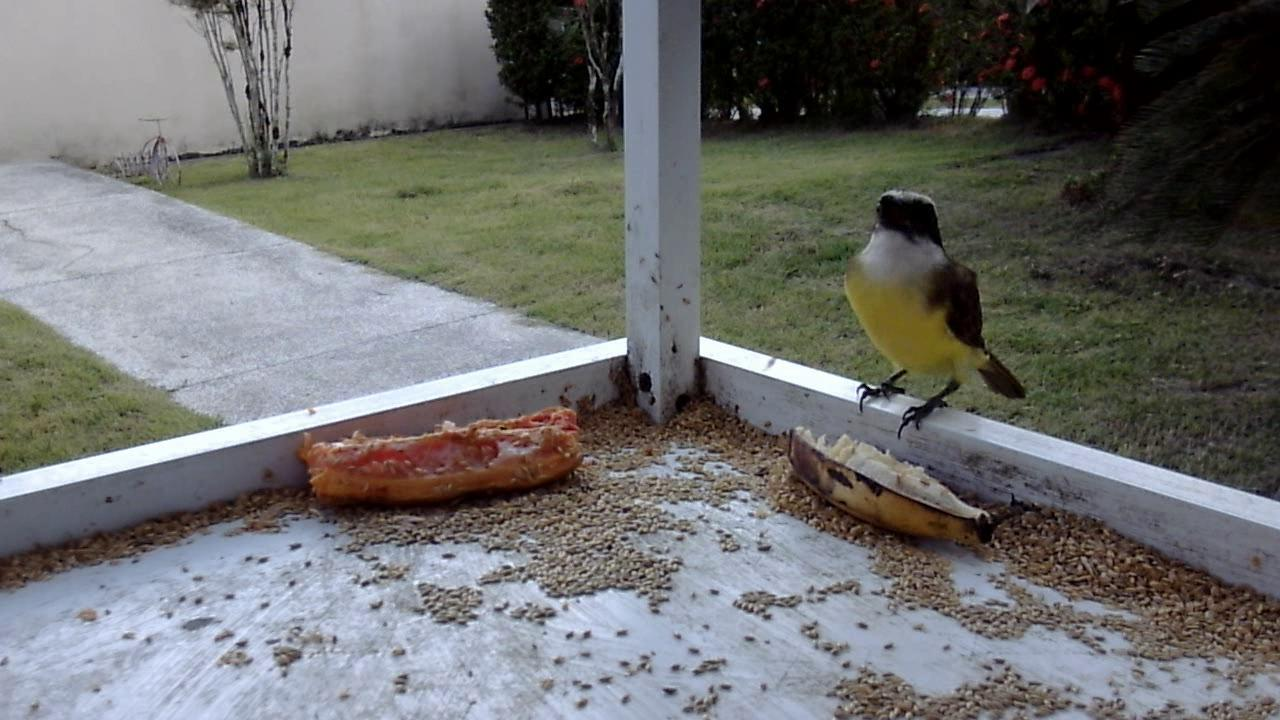bem_te_vi: (837, 182, 1032, 442)
